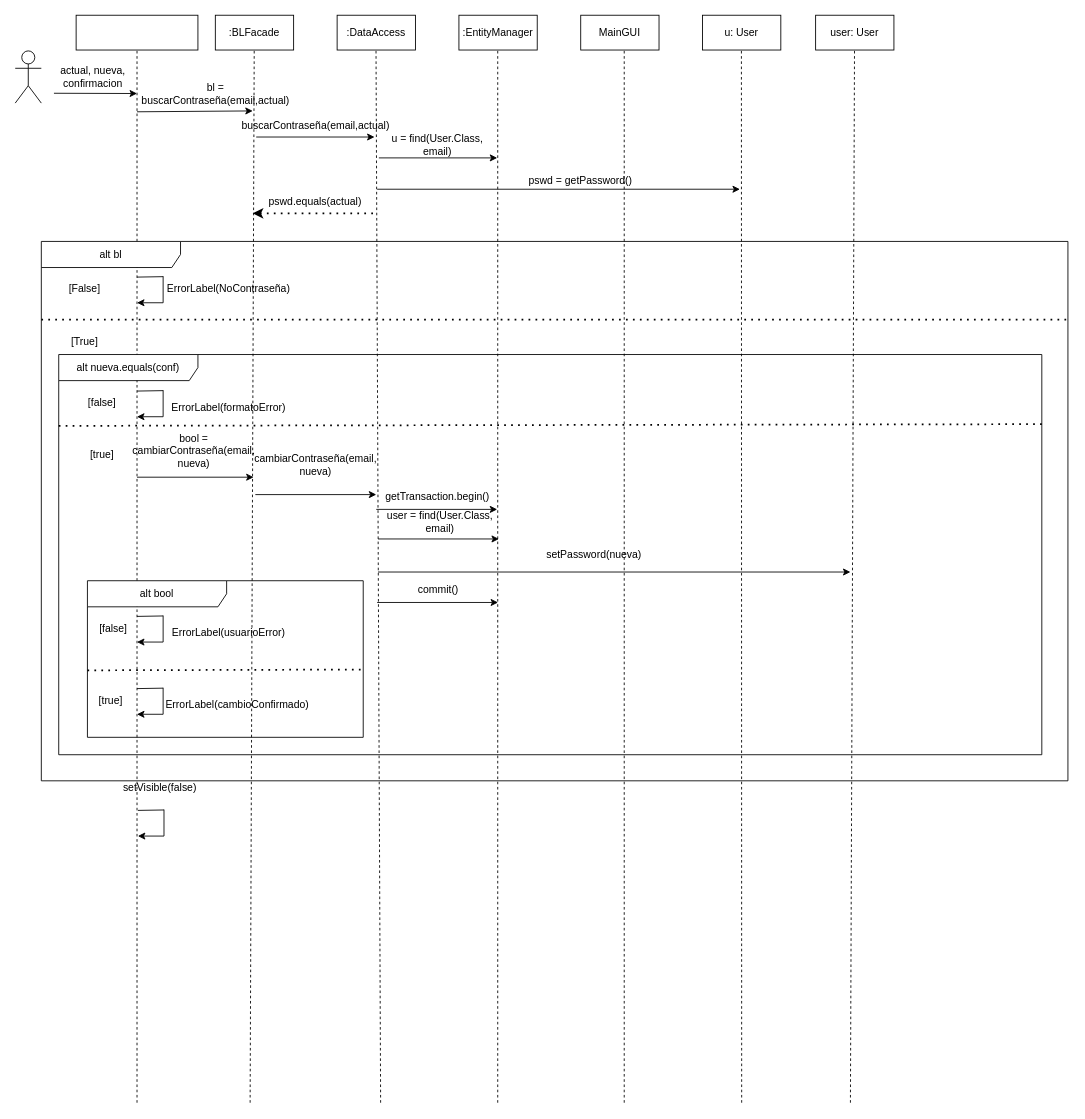
Some shapes in this 1085 by 1119 pixel diagram are drawn without their labels. Each missing label, with the centre of its shape:
":CambiarContra señaGUI" goes at (136,32).
"User" goes at (27,76).
